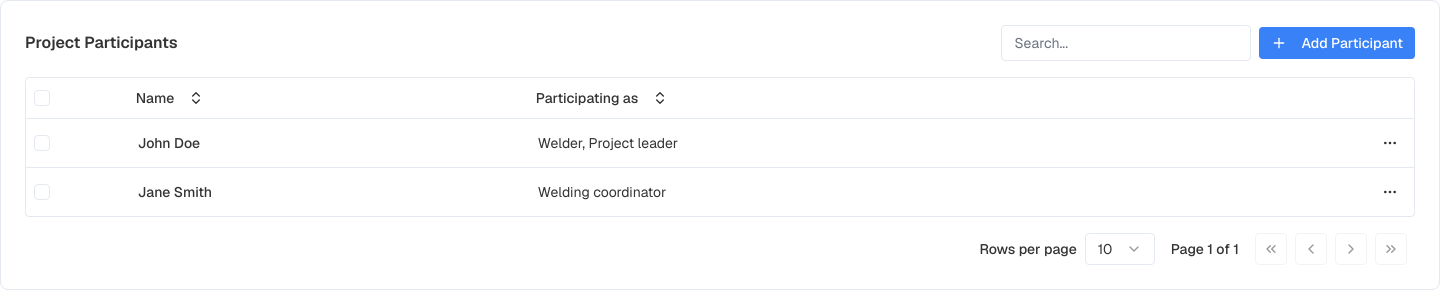
Test: ParticipantsTable › should show translated bulk action when rows are selected
The image size is (1440, 307).
# Select the first row
Click the checkbox named "Select row" next to "John": [42, 142] box [34,134,50,150]
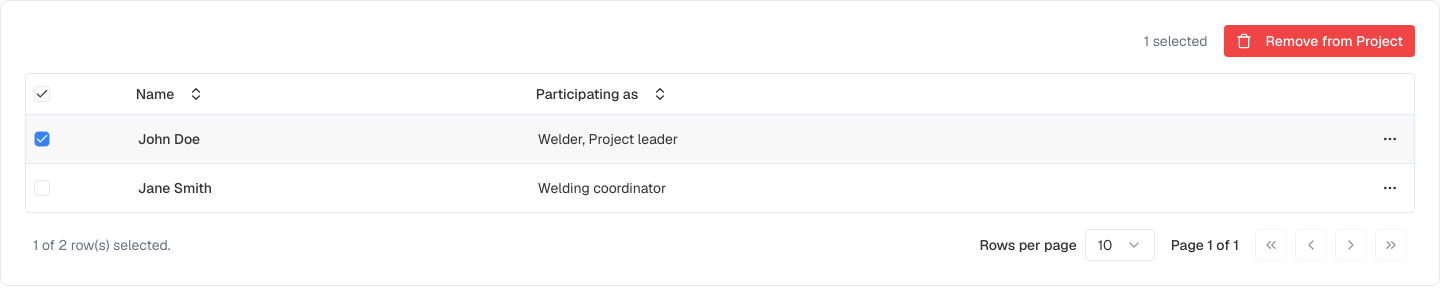
Expected: the button "Remove from Project" is shown, [1224,25,1415,57]
